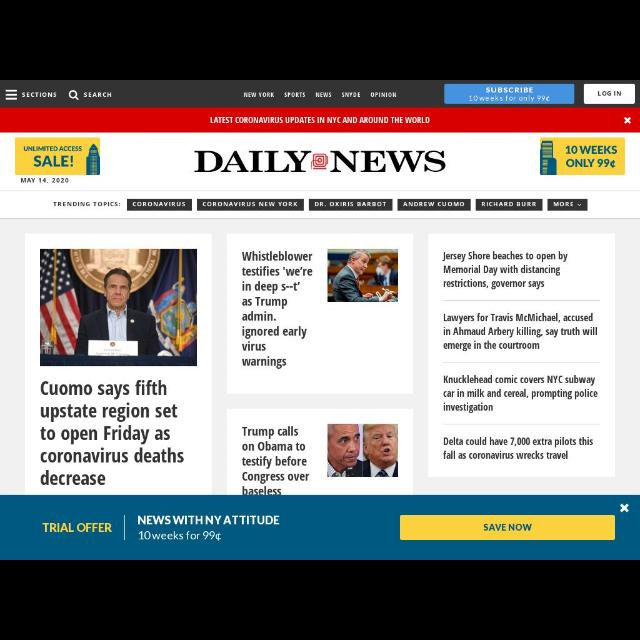icon: (4, 87, 18, 103), (68, 88, 78, 100), (578, 198, 582, 208)
iframe: (3, 496, 639, 558), (1, 108, 639, 134), (446, 84, 574, 104)
image: (41, 248, 197, 368), (195, 148, 447, 175), (329, 248, 399, 300), (328, 423, 398, 475), (540, 136, 626, 174), (15, 136, 100, 174)
multitab: (1, 81, 638, 107)
text: (39, 382, 185, 488), (242, 250, 314, 368), (440, 311, 600, 354), (442, 372, 600, 412), (443, 248, 569, 290), (242, 426, 312, 496), (438, 436, 596, 464), (204, 200, 300, 208), (51, 199, 121, 209), (404, 198, 466, 208), (482, 198, 536, 208), (132, 200, 188, 208), (314, 202, 388, 208), (22, 88, 58, 100), (18, 178, 74, 184), (242, 90, 274, 100), (595, 89, 625, 99), (369, 90, 398, 100), (553, 198, 577, 210), (84, 89, 112, 99), (284, 91, 306, 99), (340, 90, 362, 98), (316, 90, 332, 100)
textbutton: (200, 198, 304, 214), (398, 198, 469, 212), (310, 200, 392, 212), (585, 84, 633, 104), (126, 198, 194, 210), (477, 199, 543, 211), (547, 199, 587, 209)
toolbar: (1, 134, 638, 218)
